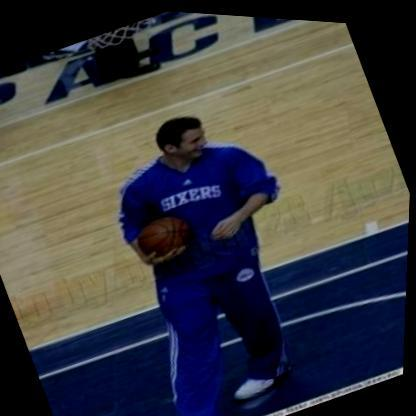basketball: (130, 196, 208, 271)
